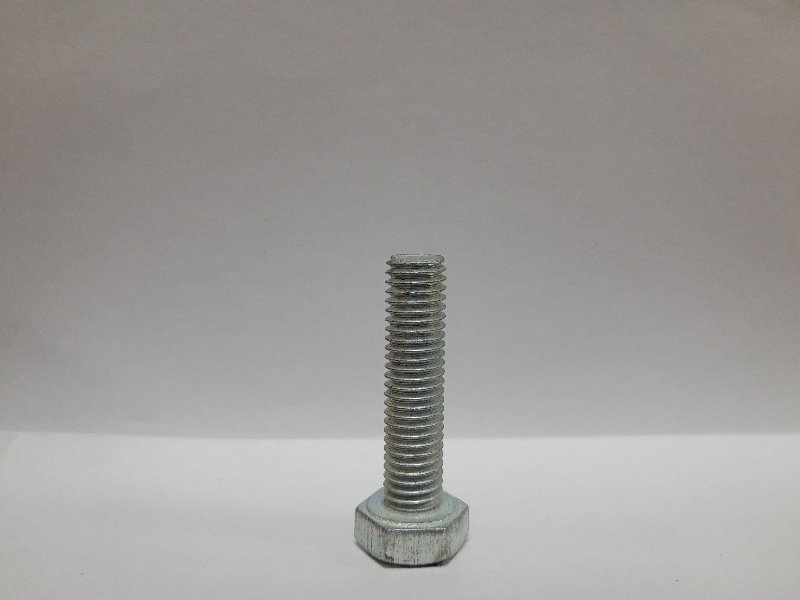pf: (351, 246, 478, 571)
